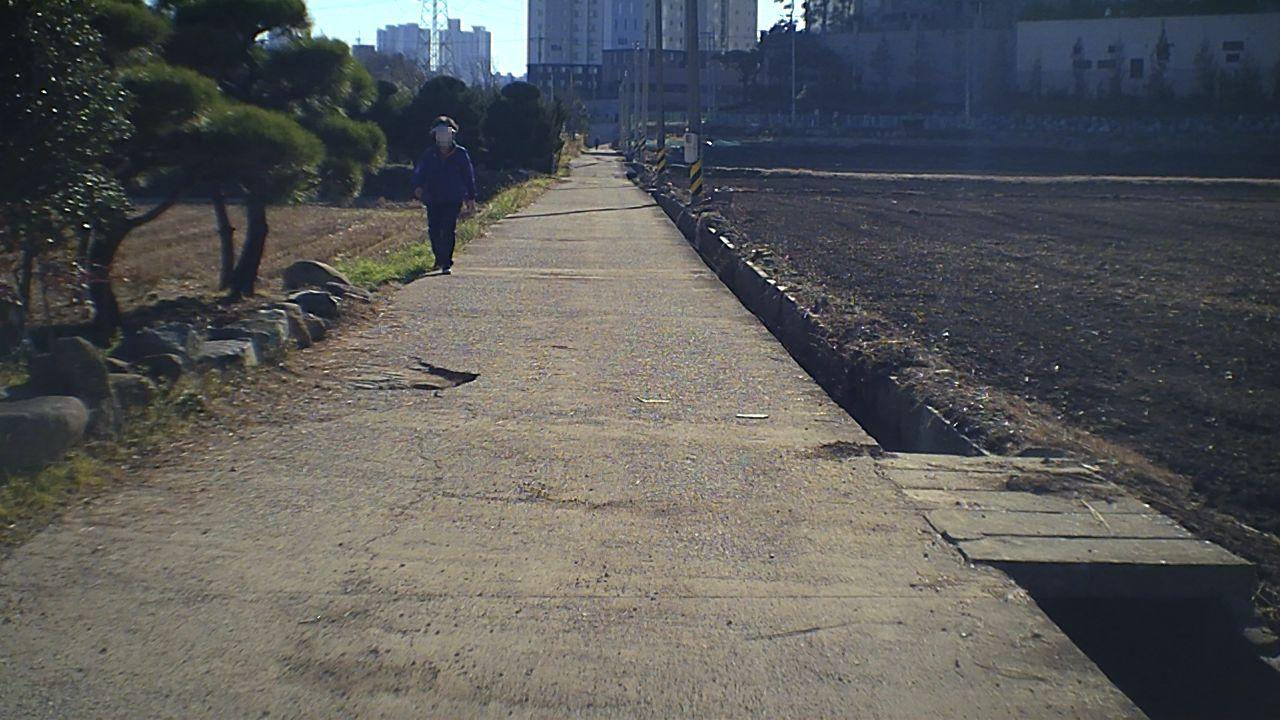banner: (345, 430, 450, 592), (361, 354, 481, 400)
